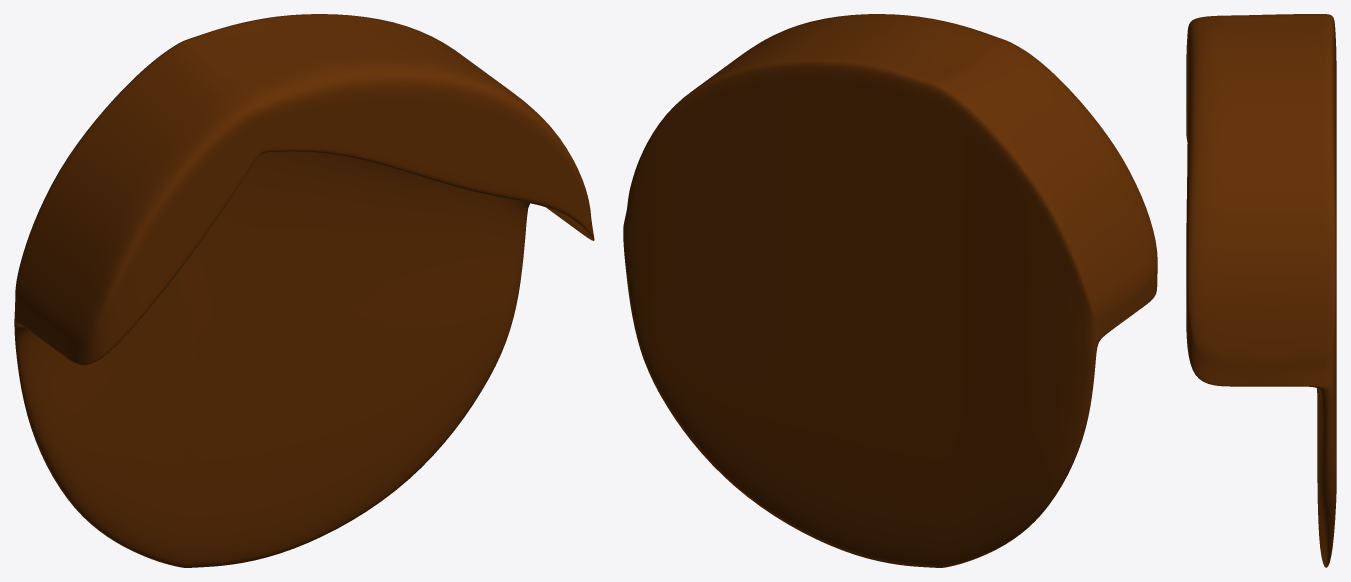
The model's file is maleHair.dae.
3 views of the same model, side by side, from view 1: azimuth 30°, elevation 25°; view 2: azimuth 150°, elevation 25°; view 3: azimuth 270°, elevation 25° (orthographic). The views are drawn at different scales.
Parts seen in each view (by area): view 1: Cube; view 2: Cube; view 3: Cube.
Boxes of the visible parts, x1,y1,x2,y2 form: Cube: [14, 14, 594, 567]; Cube: [623, 14, 1157, 567]; Cube: [1186, 14, 1336, 567].
Size of the model in its own units: 119 by 120 by 33.02.
